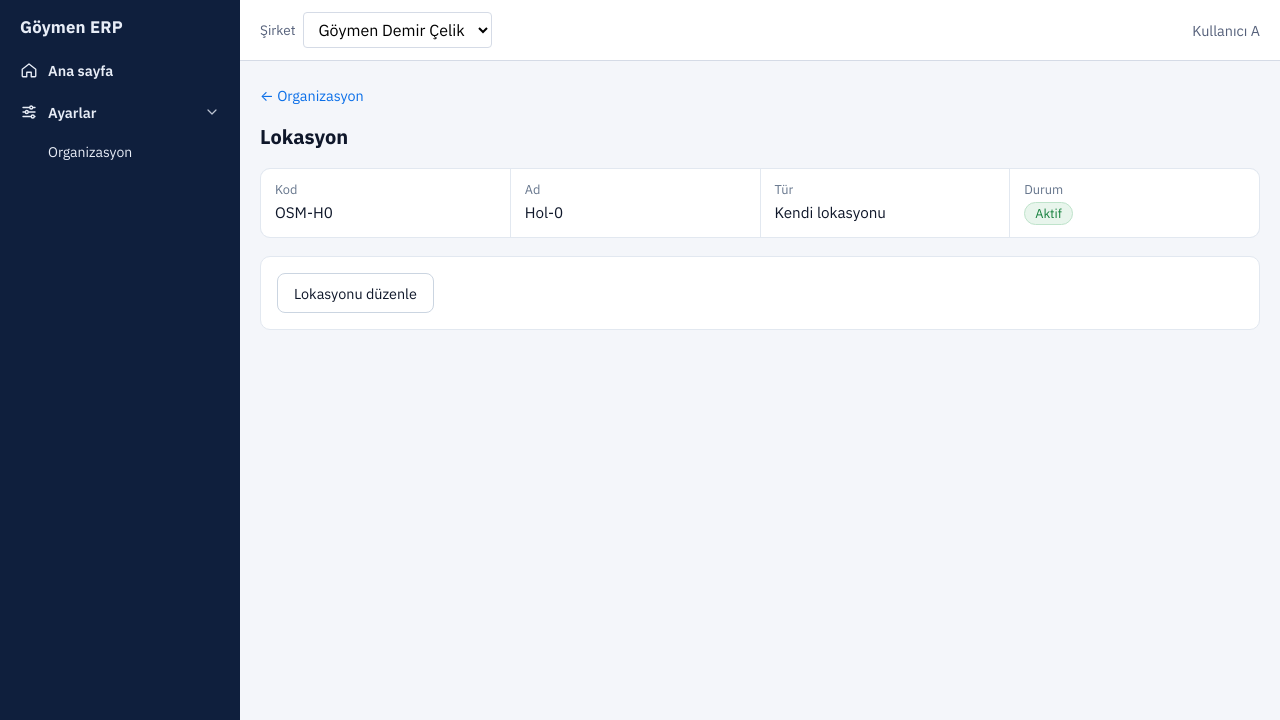
Test: location edit (ORG-02) › refuses an empty reason without minting a request
Click the button "Lokasyonu düzenle" at (355, 293), box [277,273,434,313]
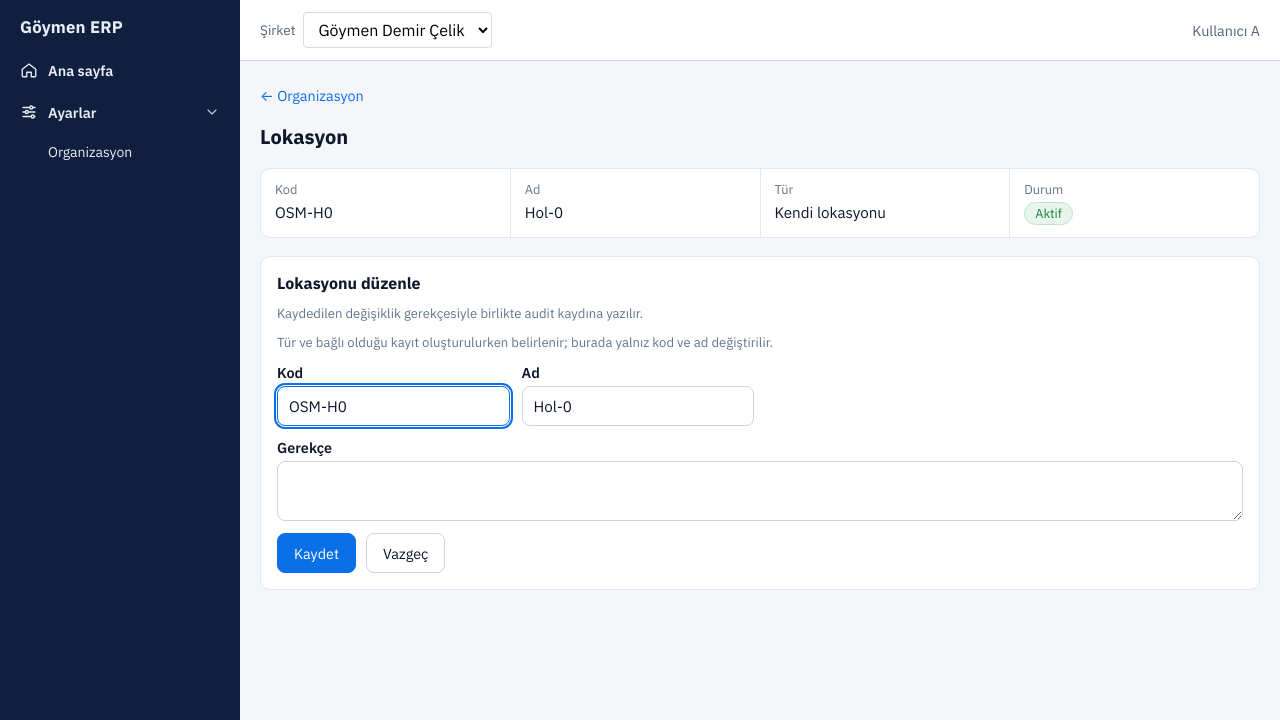
Replace the text in the field labelled "Ad" with "Hol-0 Boya" at (638, 406), box [522,386,754,426]
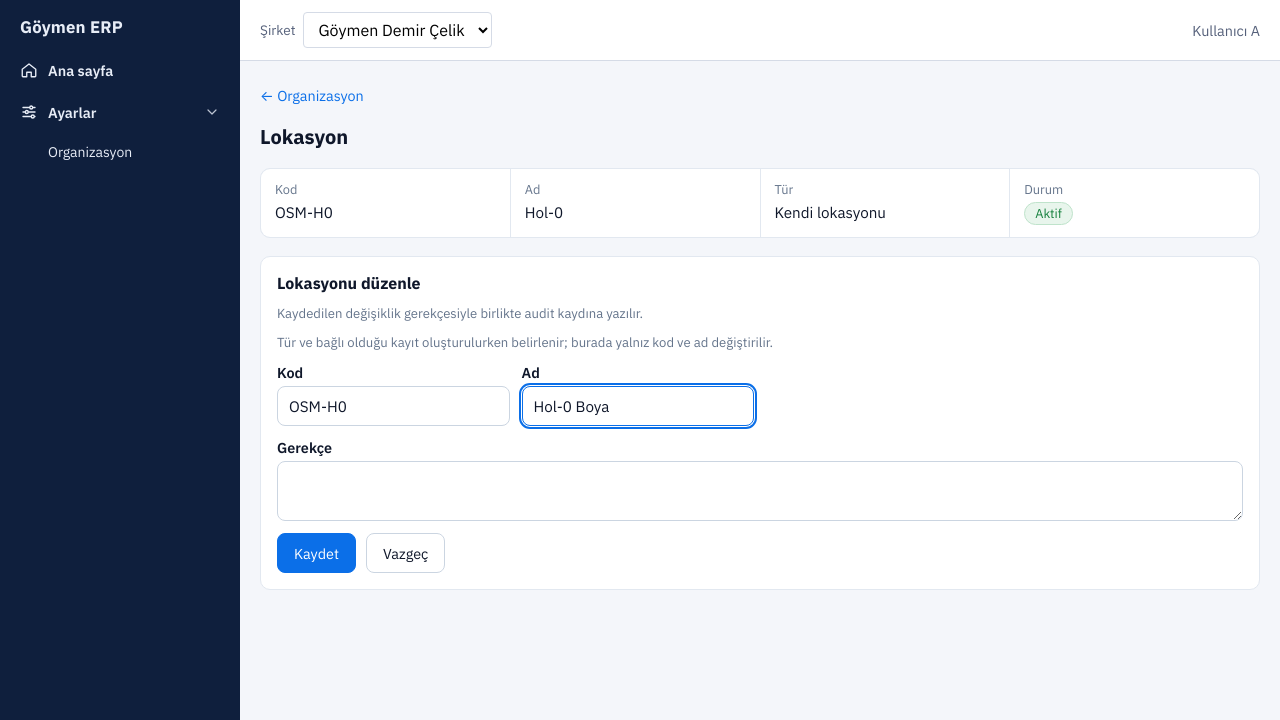
Click the button "Kaydet" at (316, 553), box [277,533,356,573]
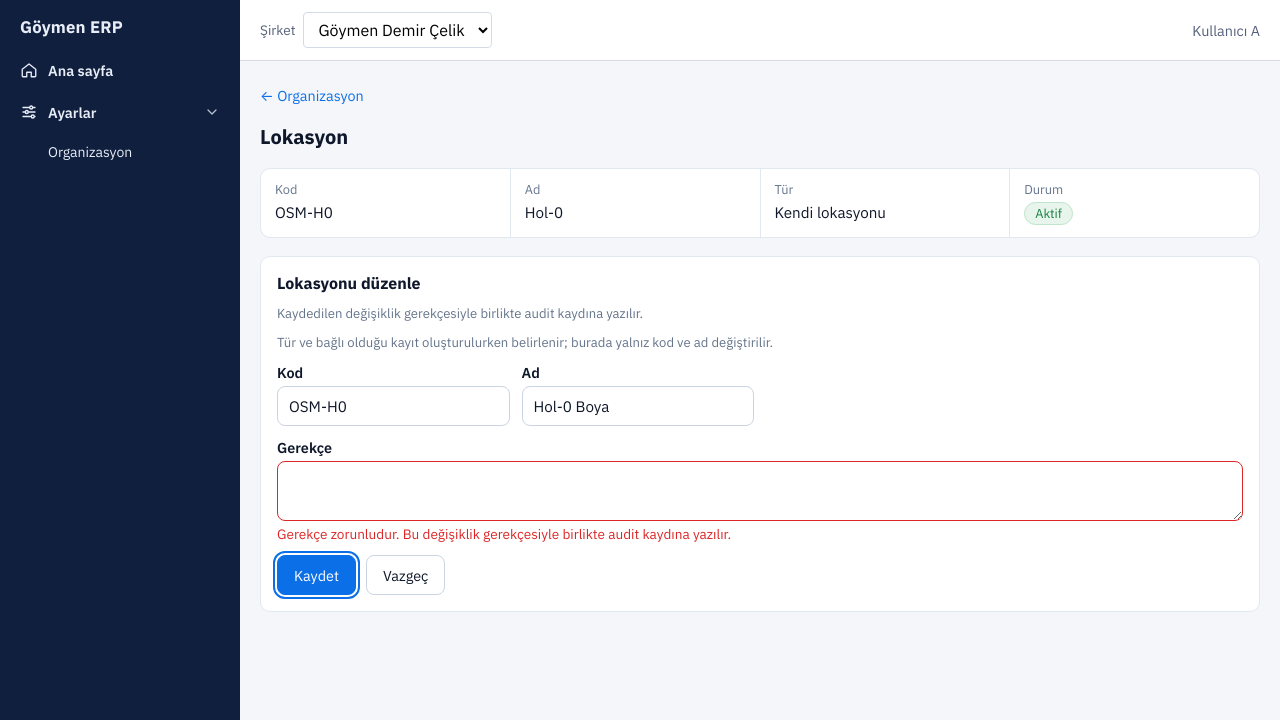
Expected: the text "Gerekçe zorunludur. Bu değişiklik gerekçesiyle birlikte audit kaydına yazılır." is shown, [277,525,731,543]
